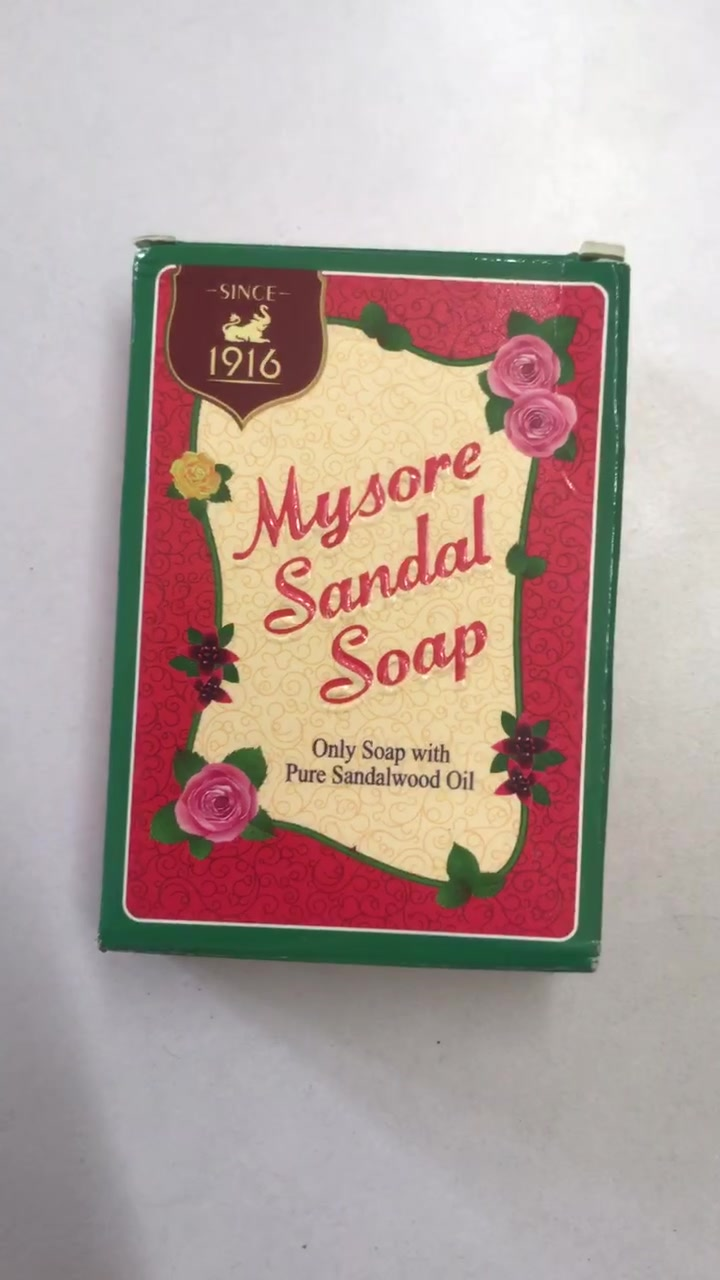mysore sandal soap: (98, 243, 639, 967)
